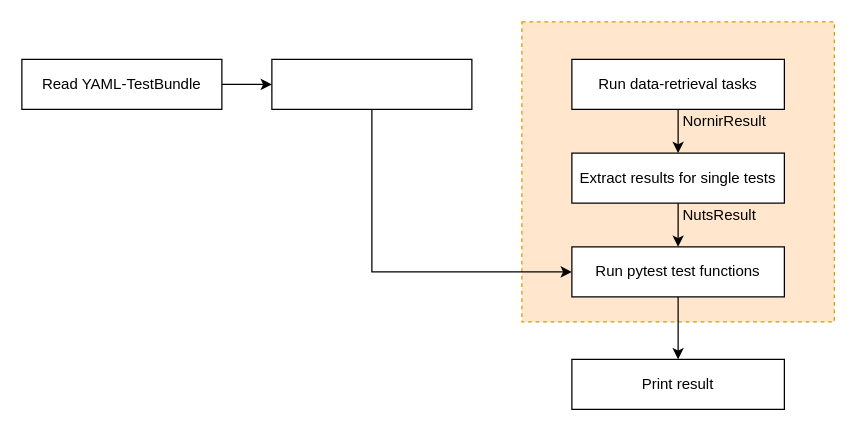
Image size: 856x431. Some labels were removed from this diagram. The box of each missing label's shape, as (x1, y1, x2, y2) in pixels:
Determine tests to run: (271, 58, 472, 109)
TestBundle: (521, 21, 834, 322)
